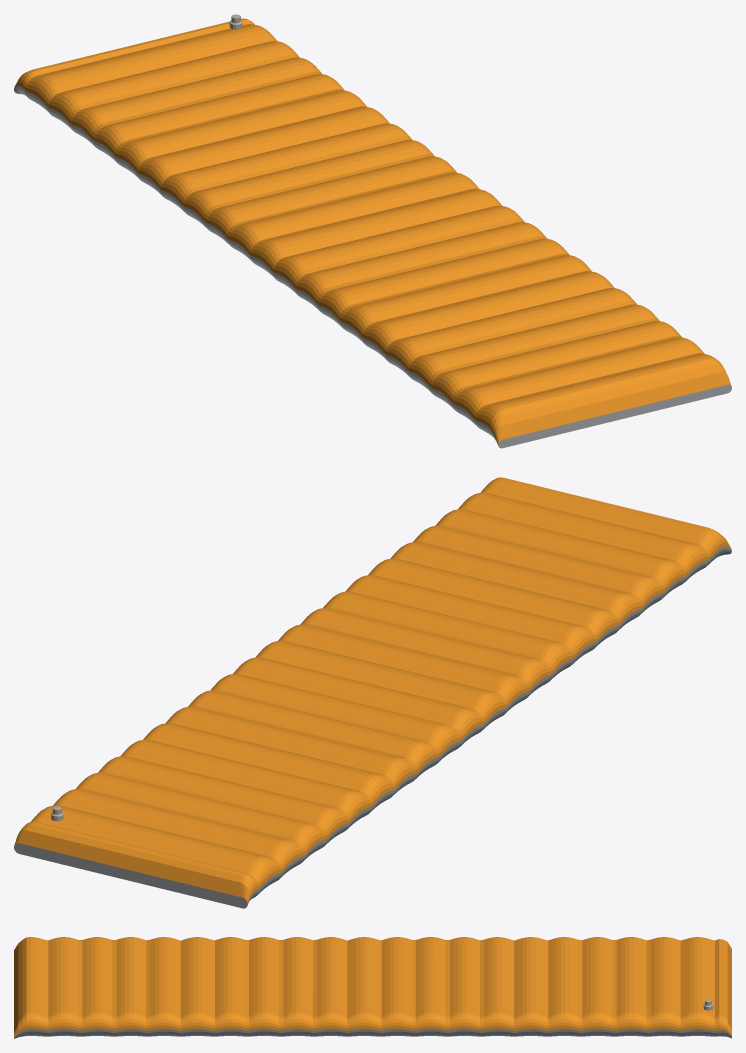
Rendered from sleeping-pad.glb.
3 renders of one model, top to bottom at view 1: azimuth 30°, elevation 25°; view 2: azimuth 150°, elevation 25°; view 3: azimuth 270°, elevation 25°, orthographic. The views are drawn at different scales.
Visible parts, largest first — view 1: sleepingPad; view 2: sleepingPad; view 3: sleepingPad.
Boxes of the visible parts, left/top/right/bottom form: sleepingPad: left=14, top=14, right=731, bottom=448; sleepingPad: left=14, top=477, right=731, bottom=908; sleepingPad: left=14, top=937, right=731, bottom=1038.
Size of the model in its own units: 0.51 by 0.0838 by 1.83.
